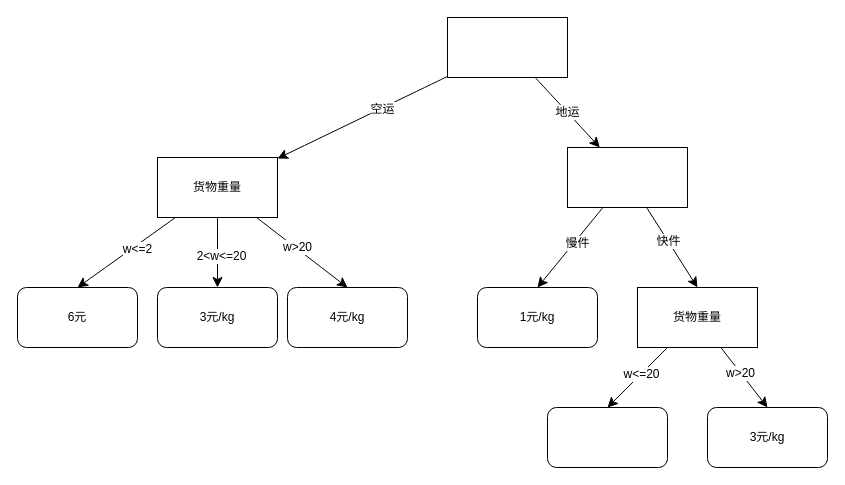
Image size: 845x485. Some labels were removed from this diagram. The shapes that lost their labels are listed below. From the top down, each one's centre as x and y in pixels, then its label:
At [507,47]: "运输方式".
At [627,177]: "快慢件".
At [607,437]: "2元/kg".
